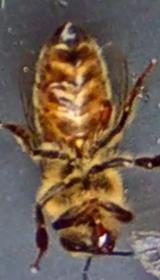varroa_mite: (78, 90, 132, 130)
